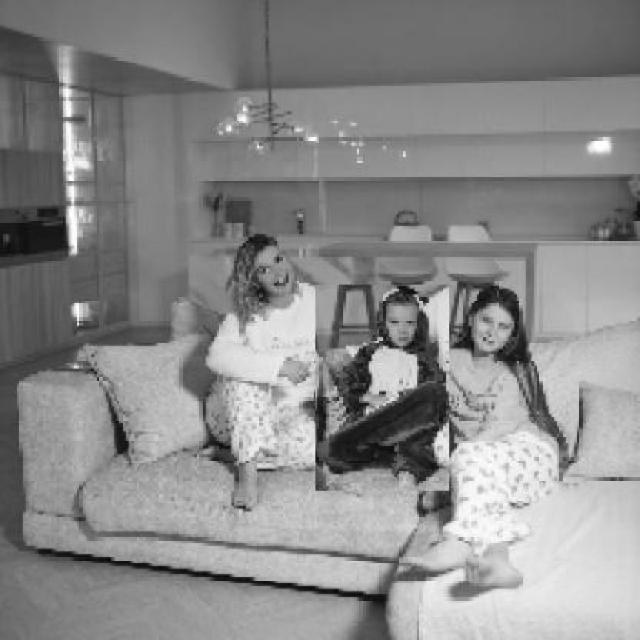child: (314, 285, 449, 492)
